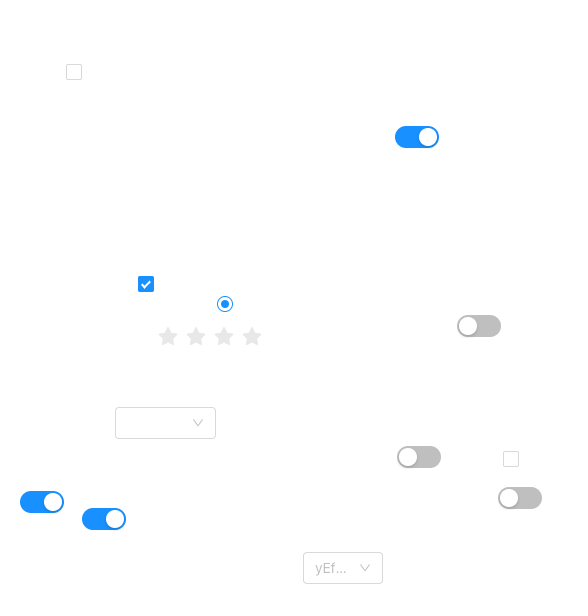Checkbox: (503, 448, 519, 469), (138, 273, 154, 294), (66, 61, 82, 82)
Radio: (217, 293, 233, 313)
Rate: (158, 320, 278, 352)
Select: (115, 407, 216, 439), (303, 552, 383, 584)
Switch: (82, 507, 126, 531), (395, 125, 439, 149), (457, 314, 501, 338), (498, 486, 542, 510), (20, 490, 64, 514), (397, 445, 441, 469)
